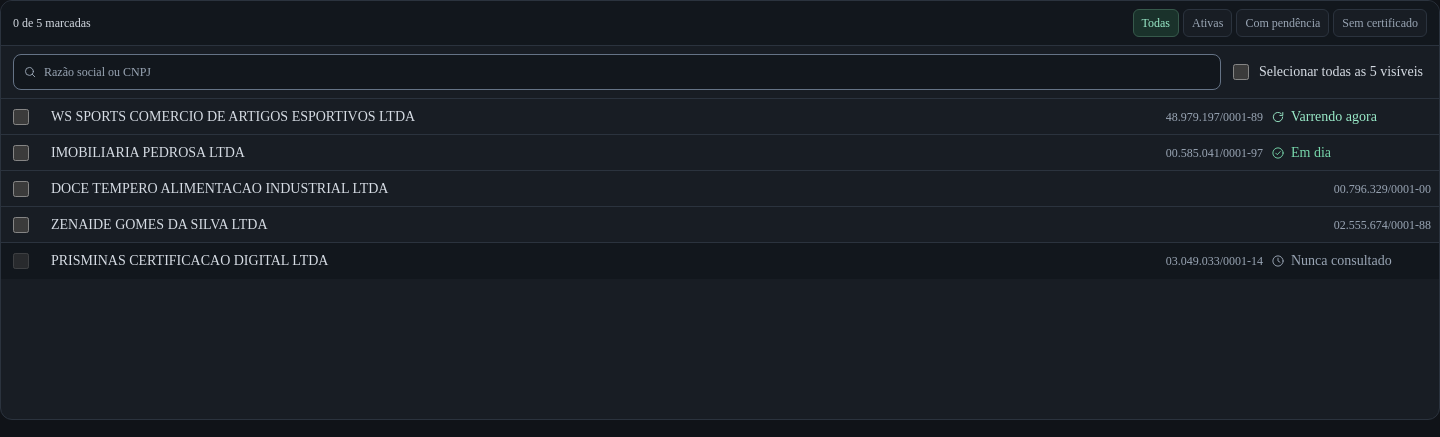
Test case: seletor de empresas › marca todas as visíveis respeitando o filtro da busca
Click the checkbox labelled "Selecionar todas as 5 visíveis" at coordinates (1241, 72), box [1233,64,1249,80]
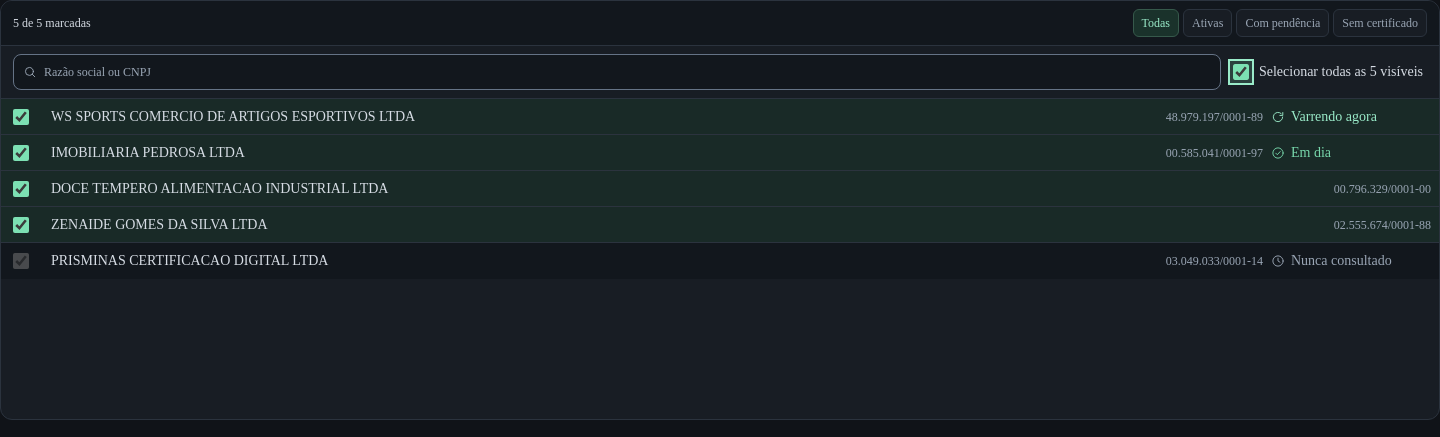
Expected: the text "5 de 5 marcadas" is shown, [13,16,91,30]
Click the checkbox labelled "Selecionar todas as 5 visíveis" at coordinates (1241, 72), box [1233,64,1249,80]
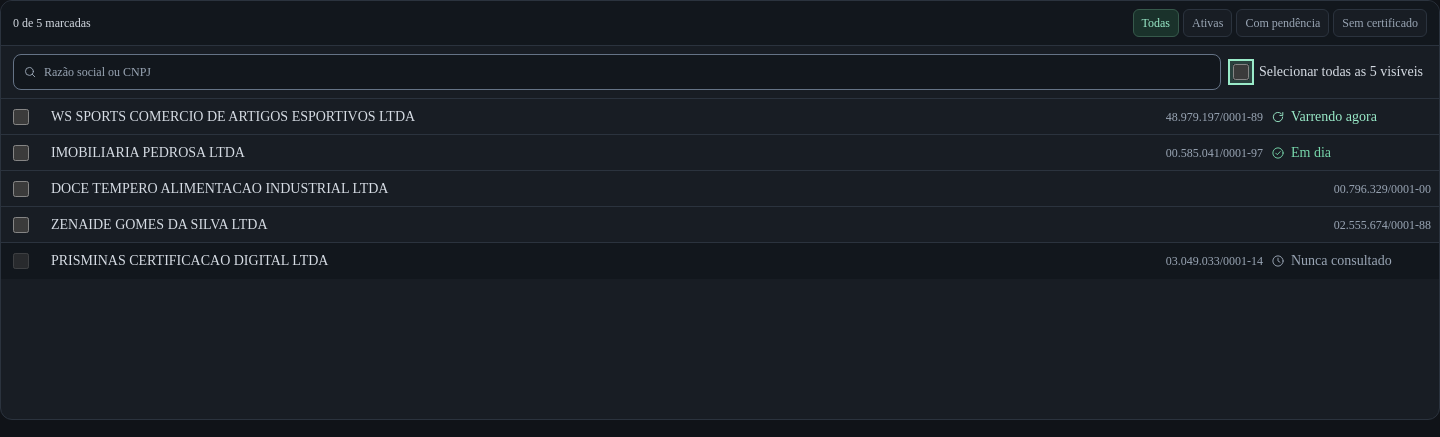
Expected: the text "0 de 5 marcadas" is shown, [13,16,91,30]
Type "ltda" into the search field named "Buscar empresa" at coordinates (617, 72), box [13,54,1221,90]
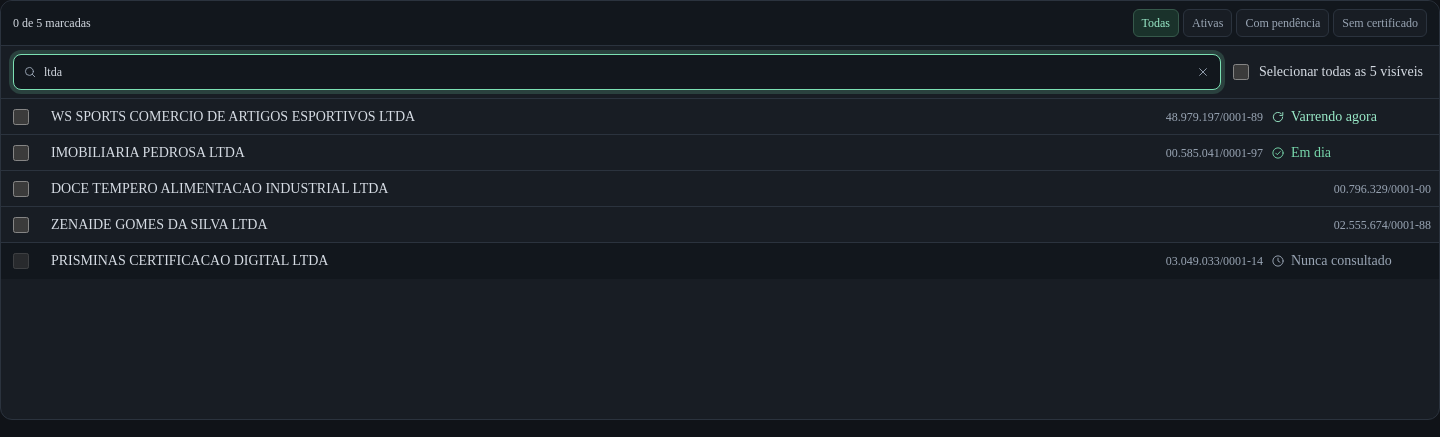
Click the checkbox labelled "Selecionar todas as 5 visíveis" at coordinates (1241, 72), box [1233,64,1249,80]
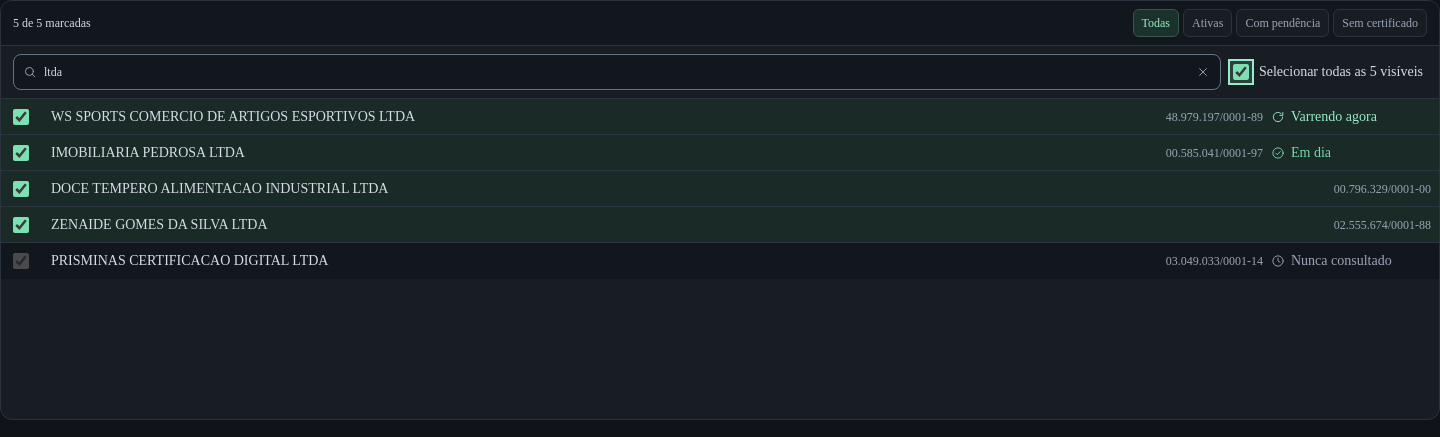
Expected: the text "5 de 5 marcadas" is shown, [13,16,91,30]
